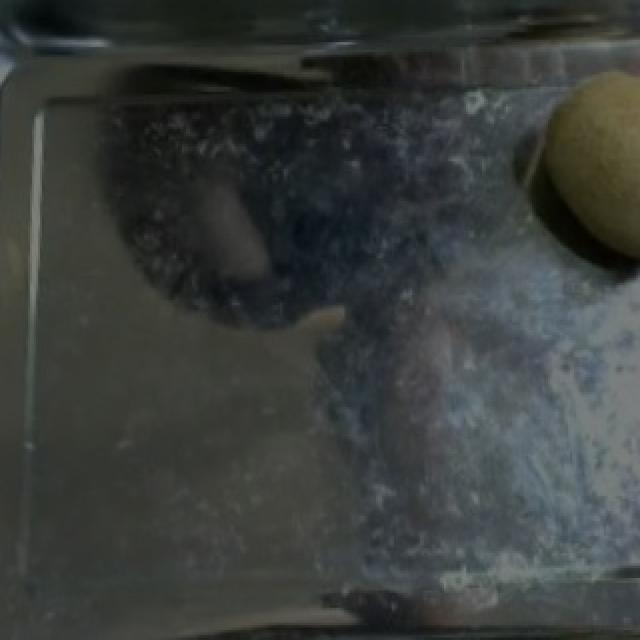Fruit: (514, 47, 640, 285)
